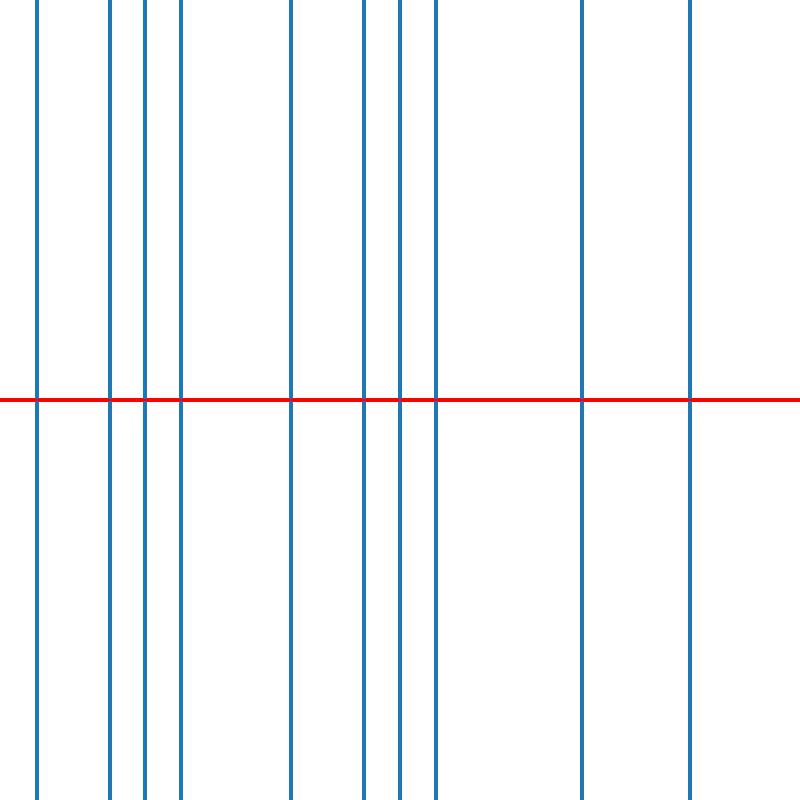root: (32, 396, 40, 404), (432, 396, 440, 404), (141, 396, 149, 404), (396, 396, 403, 404), (687, 396, 694, 404), (578, 396, 585, 404), (105, 396, 112, 404), (360, 396, 367, 404), (178, 396, 185, 404), (287, 396, 294, 404)
